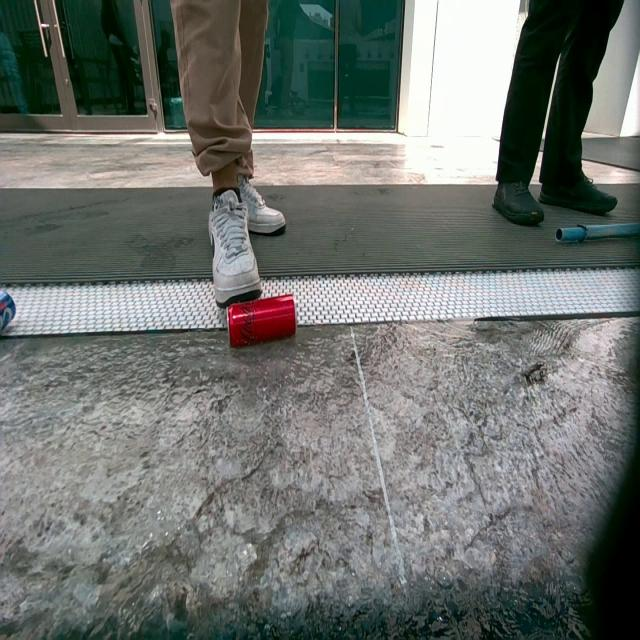Cans: (229, 295, 300, 348), (0, 288, 15, 339)
